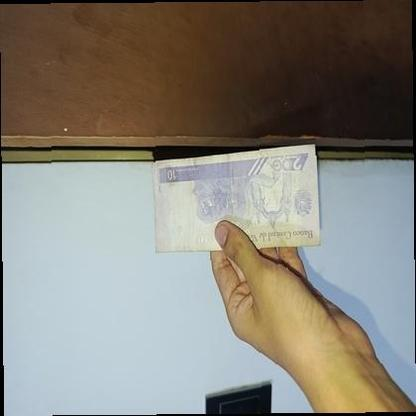ten-back-vef: (151, 144, 320, 254)
